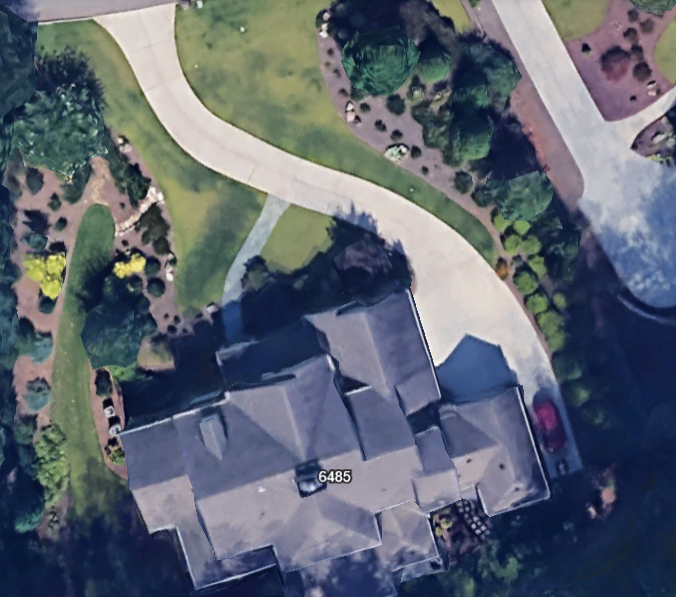driveway: (55, 0, 604, 438)
